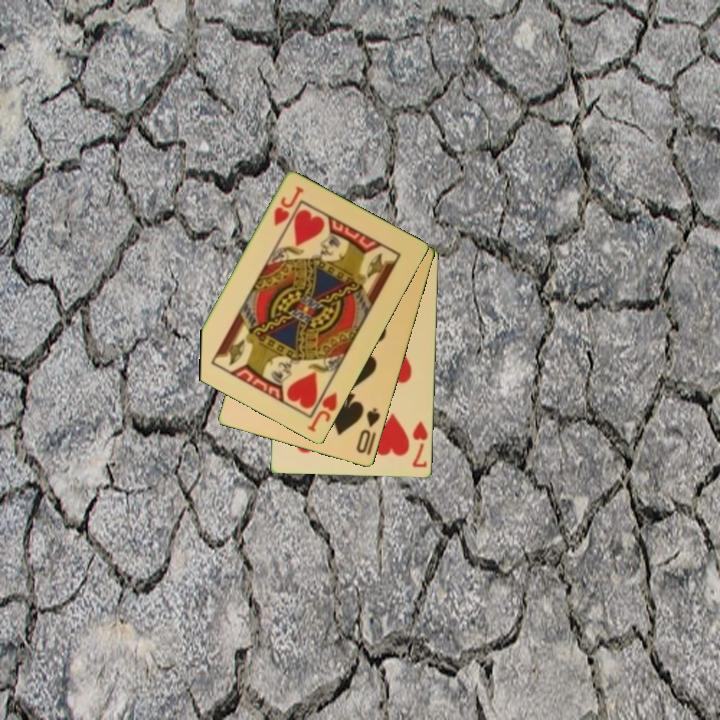10s: (353, 405, 383, 457)
7h: (409, 418, 431, 470)
Jh: (304, 389, 340, 435), (270, 183, 306, 229)
